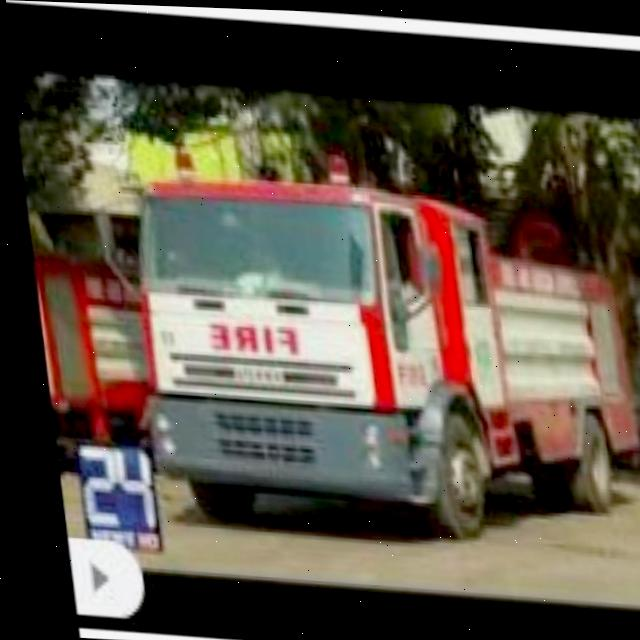emergency: (124, 134, 640, 545)
